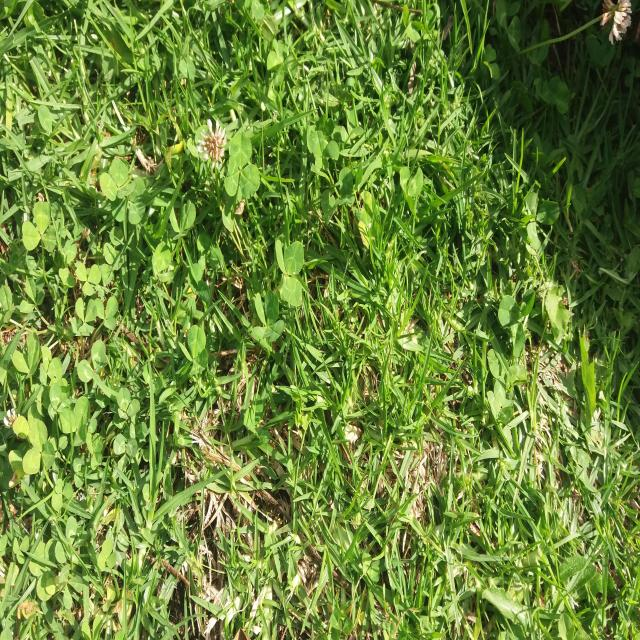Four Leaf Clover: (253, 289, 284, 342), (500, 399, 526, 437)
